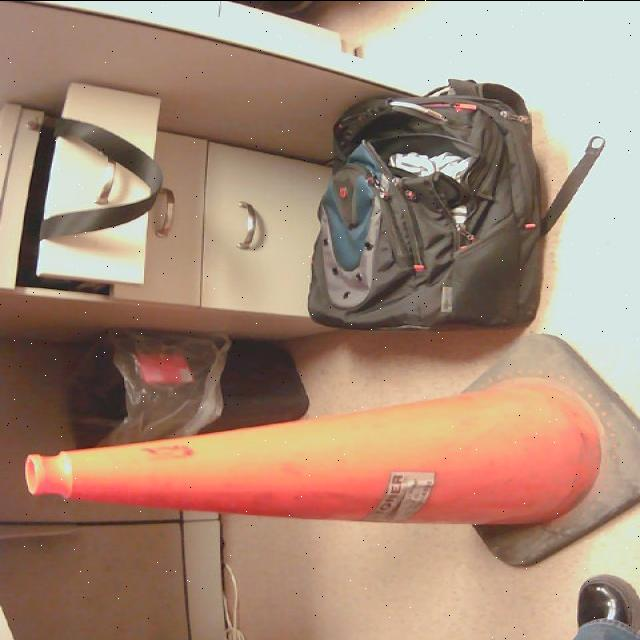traffic cone: (26, 334, 640, 562)
